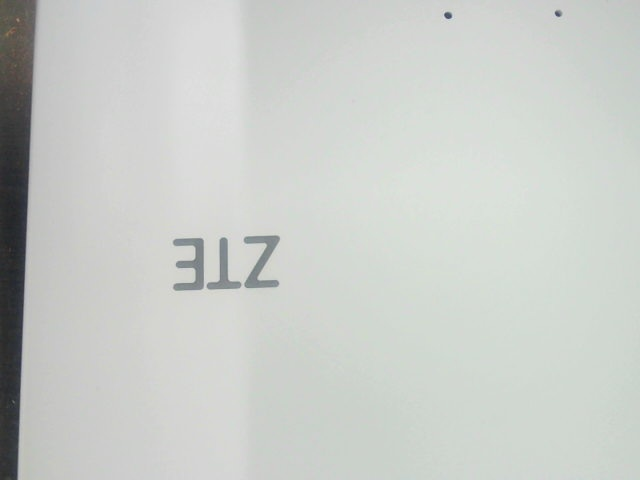AO_ZTESmall: (164, 228, 286, 300)
